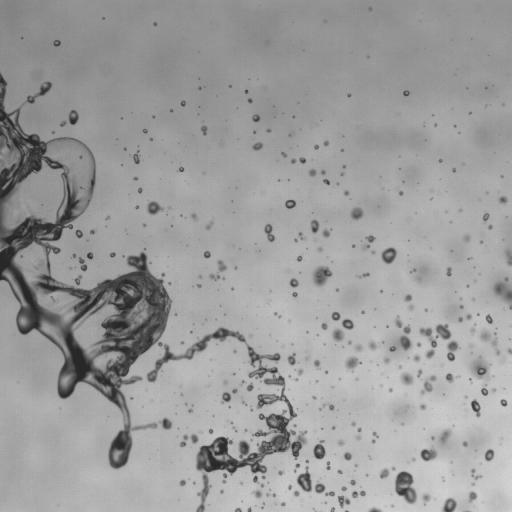droplet: (419, 324, 459, 361), (296, 467, 325, 493), (395, 471, 417, 503), (469, 356, 491, 381), (312, 266, 332, 286), (381, 247, 396, 263), (420, 447, 437, 461), (313, 440, 325, 459), (345, 356, 361, 370), (147, 201, 164, 214), (441, 497, 456, 511), (400, 372, 413, 385), (350, 207, 363, 219), (471, 399, 480, 416), (338, 495, 350, 507), (332, 328, 343, 341), (68, 110, 78, 124), (439, 429, 450, 441), (310, 219, 319, 233), (342, 318, 353, 329), (484, 449, 494, 461), (287, 353, 296, 365), (379, 468, 389, 478), (217, 260, 226, 271), (221, 392, 230, 403), (468, 491, 477, 502), (285, 199, 295, 208), (368, 341, 378, 350), (445, 373, 455, 382), (471, 469, 480, 479), (289, 278, 298, 287), (331, 312, 340, 321), (252, 142, 262, 150), (422, 494, 430, 504), (209, 274, 221, 280), (481, 385, 488, 395), (252, 490, 262, 497), (133, 152, 139, 163), (485, 314, 492, 323), (499, 196, 507, 203), (322, 229, 329, 237), (75, 230, 82, 238), (246, 383, 253, 391), (344, 452, 351, 460), (201, 125, 207, 134), (252, 114, 259, 121), (298, 232, 305, 239), (404, 294, 411, 301), (355, 344, 362, 351), (413, 354, 420, 361), (500, 399, 507, 406), (483, 213, 489, 221), (446, 267, 451, 276), (53, 40, 60, 46), (309, 169, 315, 176), (463, 235, 470, 241), (204, 251, 210, 258), (87, 252, 93, 259), (321, 322, 327, 329), (314, 360, 319, 368), (417, 369, 422, 377), (326, 491, 334, 496), (299, 157, 305, 163), (383, 357, 389, 363), (328, 404, 334, 410), (420, 404, 426, 410), (372, 432, 378, 438), (293, 490, 299, 496), (326, 461, 330, 469), (403, 90, 409, 95), (323, 179, 329, 184), (191, 213, 196, 219), (297, 255, 302, 261), (408, 304, 413, 310), (389, 346, 395, 351), (297, 369, 303, 374), (338, 440, 344, 445), (179, 480, 185, 485), (60, 121, 65, 126), (344, 190, 349, 195), (110, 252, 115, 257), (292, 292, 297, 297), (466, 314, 471, 319), (232, 388, 237, 393), (278, 470, 283, 475), (350, 480, 355, 485), (341, 486, 346, 491), (181, 100, 185, 106), (507, 348, 511, 354), (234, 508, 241, 511), (323, 141, 328, 145), (282, 152, 286, 157), (291, 158, 295, 163), (178, 167, 183, 171), (90, 229, 94, 234), (458, 317, 462, 322), (470, 328, 474, 333), (416, 342, 421, 346), (240, 380, 245, 384), (351, 421, 355, 426), (356, 435, 361, 439), (463, 441, 467, 446), (248, 99, 252, 103), (143, 129, 147, 133), (314, 145, 318, 149), (321, 170, 325, 174), (138, 188, 142, 192), (399, 191, 403, 195), (488, 225, 492, 229), (318, 247, 322, 251), (491, 388, 495, 392), (188, 408, 192, 412), (357, 427, 361, 431), (209, 429, 213, 433), (337, 469, 341, 473), (288, 485, 292, 489), (281, 502, 285, 506), (330, 507, 334, 511), (411, 269, 415, 272), (504, 277, 508, 280), (224, 380, 227, 384), (242, 400, 245, 404), (233, 427, 236, 431), (372, 439, 375, 443), (247, 508, 251, 511), (347, 93, 350, 96), (267, 129, 270, 132), (134, 177, 137, 180), (72, 254, 75, 257), (197, 284, 200, 287), (348, 341, 351, 344), (305, 357, 308, 360), (294, 378, 297, 381), (389, 388, 392, 391), (371, 251, 375, 253), (439, 159, 441, 162), (452, 169, 455, 171), (135, 206, 138, 208), (106, 217, 109, 219), (294, 239, 297, 241), (52, 298, 54, 301), (460, 305, 462, 308), (233, 350, 236, 352), (313, 396, 315, 399), (230, 421, 232, 424), (431, 437, 434, 439), (305, 460, 308, 462), (392, 467, 394, 470), (220, 490, 223, 492), (154, 23, 156, 25), (245, 90, 247, 92), (150, 138, 152, 140), (199, 275, 201, 277), (362, 311, 364, 313), (470, 344, 472, 346), (399, 366, 401, 368), (250, 407, 252, 409), (333, 426, 335, 428), (244, 429, 246, 431), (413, 458, 415, 460), (472, 483, 474, 485)
ligament: (0, 73, 307, 511), (26, 81, 51, 103), (395, 316, 411, 350), (479, 330, 500, 354), (494, 283, 511, 309), (420, 375, 436, 395), (179, 434, 198, 447), (264, 224, 274, 241), (362, 235, 374, 249), (79, 257, 87, 271), (505, 250, 511, 266), (352, 490, 365, 497), (368, 507, 382, 511), (294, 463, 300, 472), (206, 222, 213, 229), (359, 273, 369, 277), (267, 492, 275, 496), (275, 313, 280, 317), (465, 510, 470, 511), (345, 510, 348, 511)
